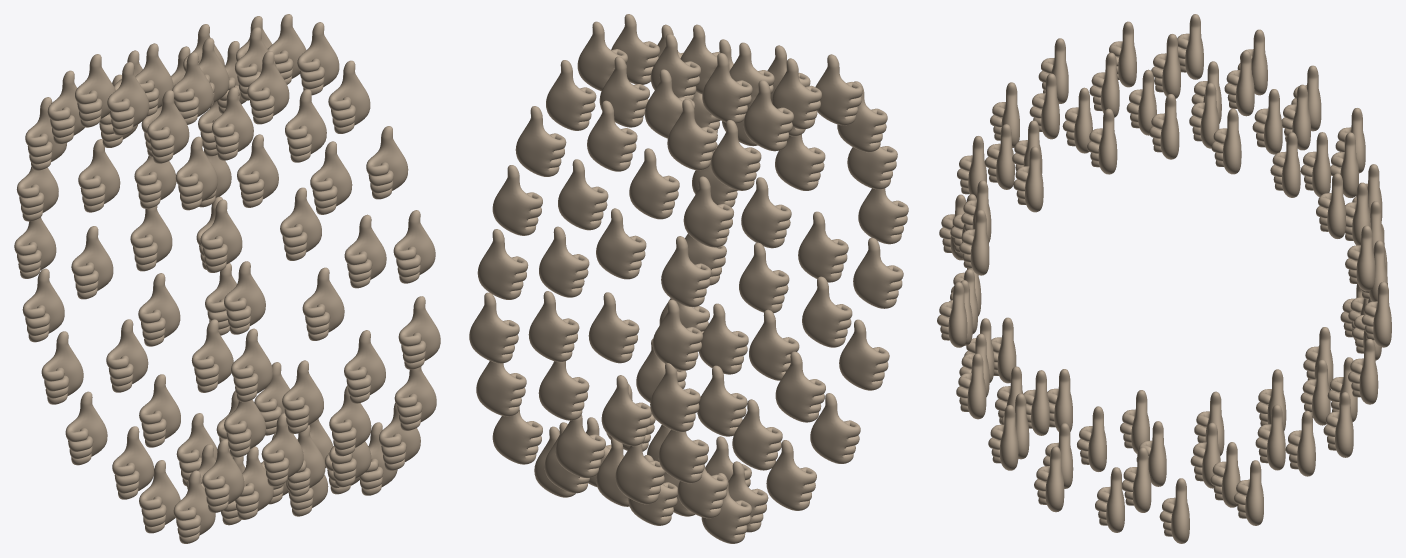
Rendered from hands.glb.
The picture shows the model from 3 angles, left to right: view 1: azimuth 30°, elevation 25°; view 2: azimuth 150°, elevation 25°; view 3: azimuth 270°, elevation 25°; orthographic projection.
Parts seen in each view (by area): view 1: piece_40, piece_41, piece_61, piece_49, piece_8, piece_7, piece_48, piece_52, piece_22, piece_4, piece_11, piece_42 (+52 smaller); view 2: piece_32, piece_67, piece_9, piece_2, piece_3, piece_69, piece_15, piece_5, piece_66, piece_38, piece_47, piece_21 (+55 smaller); view 3: piece_31, piece_49, piece_62, piece_30, piece_63, piece_58, piece_8, piece_39, piece_27, piece_25, piece_29, piece_43 (+54 smaller).
Boxes of the visible parts, x1,y1,x2,y2 form: piece_40: (344, 214, 386, 288); piece_41: (41, 331, 83, 404); piece_61: (65, 391, 107, 465); piece_49: (393, 210, 435, 283); piece_8: (398, 296, 440, 369); piece_7: (71, 226, 113, 299); piece_48: (22, 268, 64, 342); piece_52: (138, 273, 180, 346); piece_22: (175, 136, 217, 210); piece_4: (302, 267, 344, 340); piece_11: (231, 328, 272, 402); piece_42: (247, 51, 289, 124); piece_32: (661, 236, 711, 306); piece_67: (839, 319, 889, 390); piece_9: (853, 237, 903, 308); piece_2: (743, 80, 793, 151); piece_3: (667, 99, 717, 170); piece_69: (810, 393, 860, 463); piece_15: (596, 208, 646, 279); piece_5: (629, 148, 679, 219); piece_66: (766, 440, 816, 510); piece_38: (492, 165, 542, 235); piece_47: (469, 292, 519, 363); piece_21: (683, 176, 733, 247); piece_31: (1149, 94, 1179, 159); piece_49: (959, 210, 989, 275); piece_62: (988, 405, 1018, 470); piece_30: (1087, 108, 1117, 174); piece_63: (1255, 404, 1285, 470); piece_58: (1034, 446, 1064, 512); piece_8: (937, 282, 967, 347); piece_39: (1345, 225, 1375, 291); piece_27: (956, 353, 986, 419); piece_25: (1348, 339, 1378, 404); piece_29: (1013, 146, 1043, 212); piece_43: (1211, 108, 1241, 174).
Size of the model in its own units: 32.16 by 63.34 by 57.93.
